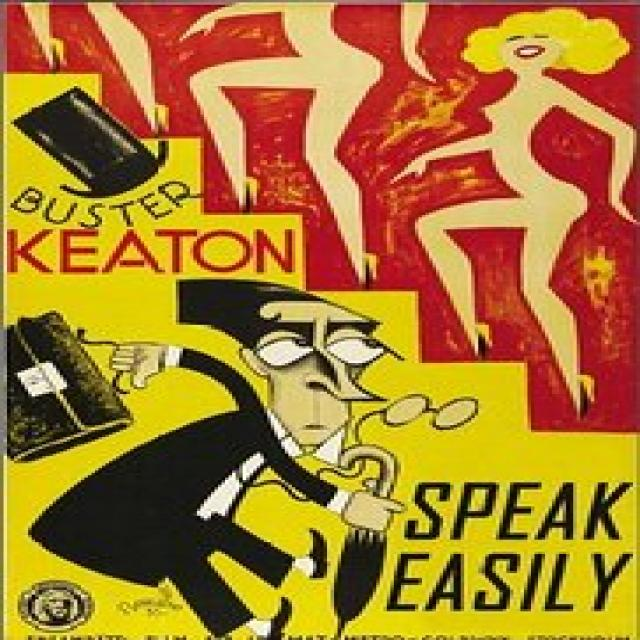movie-judul: (0, 222, 301, 279)
picture: (0, 1, 640, 430), (0, 281, 481, 640)
